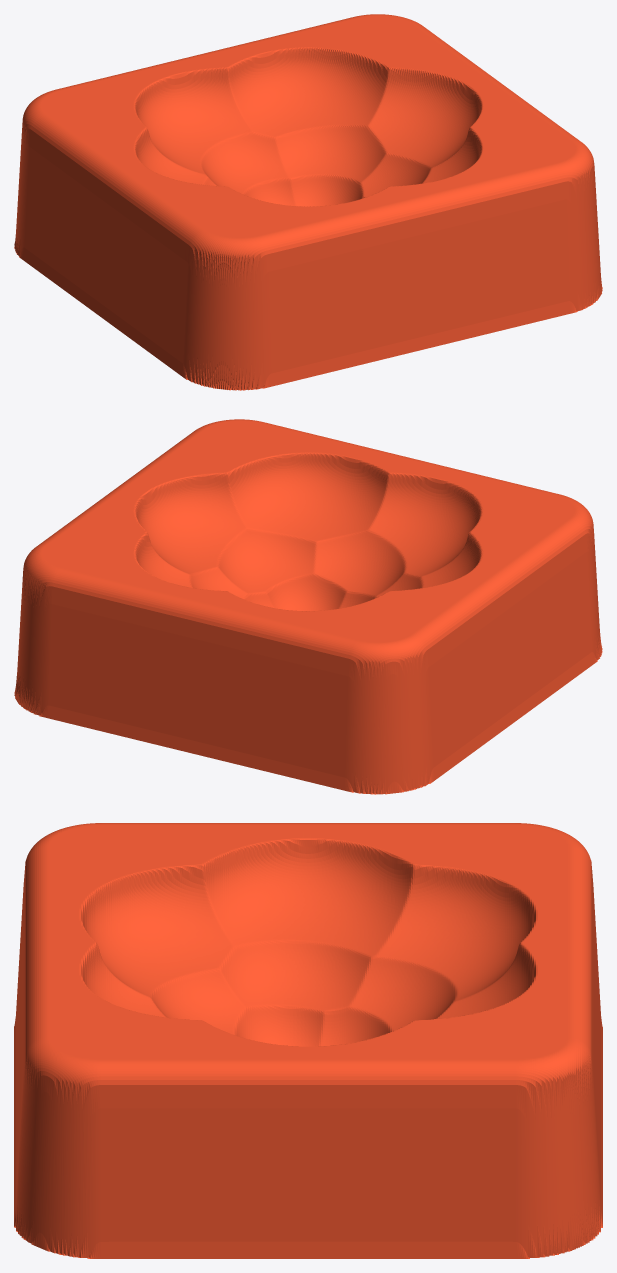
The model's file is mold.glb.
3 views of the same model, one above another, from view 1: azimuth 30°, elevation 25°; view 2: azimuth 150°, elevation 25°; view 3: azimuth 270°, elevation 25° (orthographic). The views are drawn at different scales.
Parts seen in each view (by area): view 1: geometry_0; view 2: geometry_0; view 3: geometry_0.
Boxes of the visible parts, x1,y1,x2,y2 form: geometry_0: (14, 14, 602, 390); geometry_0: (14, 419, 602, 794); geometry_0: (14, 823, 602, 1258).
Size of the model in its own units: 0.065 by 0.0212 by 0.0614.
